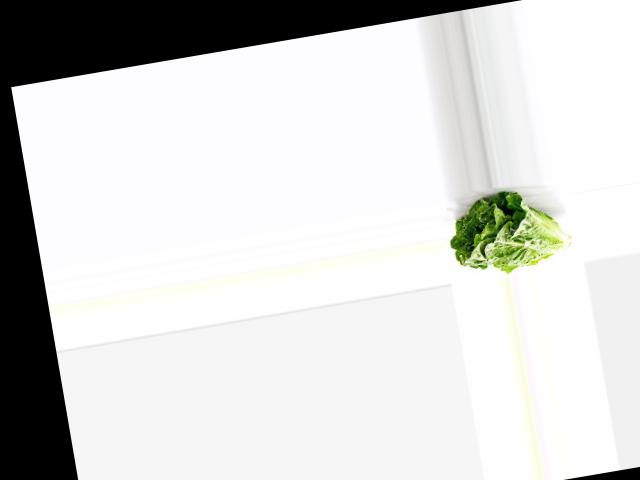lettuce: (444, 180, 573, 282)
